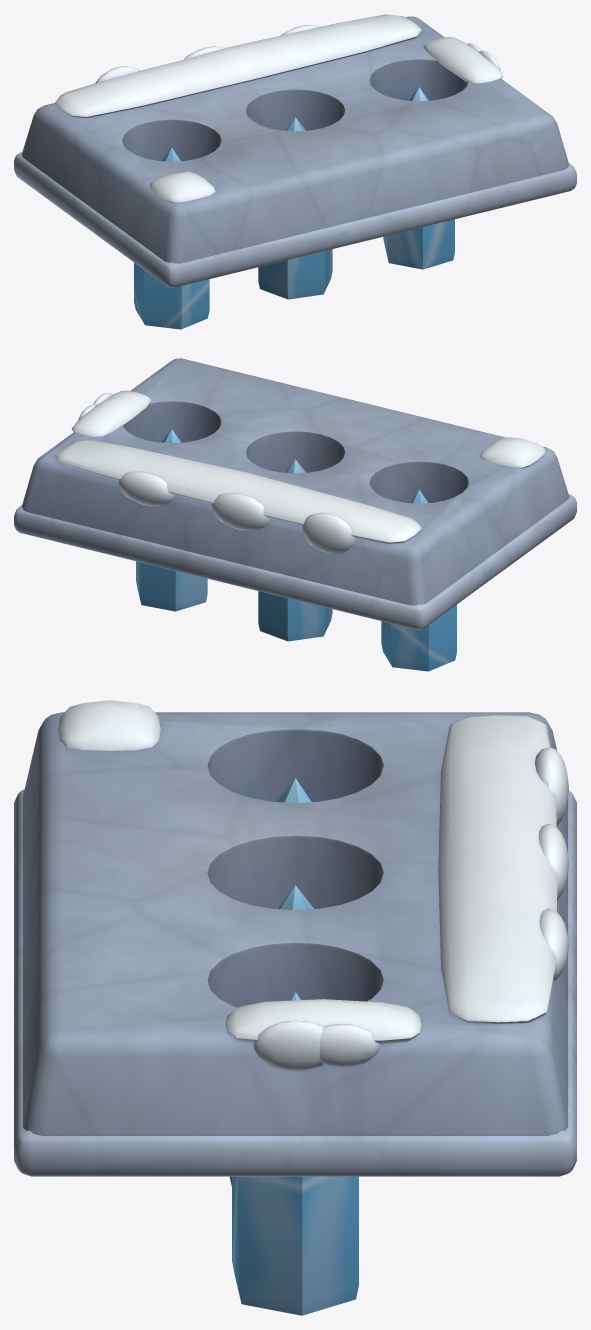
The model's file is FP_G06_IceSpikeTrap.fbx.
The picture shows the model from 3 angles, top to bottom: view 1: azimuth 30°, elevation 25°; view 2: azimuth 150°, elevation 25°; view 3: azimuth 270°, elevation 25°; orthographic projection. The views are drawn at different scales.
Parts seen in each view (by area): view 1: Plinth, Spike_01, Spike_02, Spike_03; view 2: Plinth, Spike_01, Spike_02, Spike_03; view 3: Plinth, Spike_03.
Boxes of the visible parts, x1,y1,x2,y2 form: Plinth: (14, 14, 576, 287); Spike_01: (134, 147, 209, 329); Spike_02: (258, 117, 332, 299); Spike_03: (383, 87, 454, 269); Plinth: (14, 358, 576, 629); Spike_01: (381, 489, 456, 671); Spike_02: (258, 459, 332, 641); Spike_03: (136, 429, 207, 611); Plinth: (14, 700, 576, 1176); Spike_03: (232, 992, 358, 1315).
Bounding box in the file's own units: 1.5 × 0.6675 × 1.
